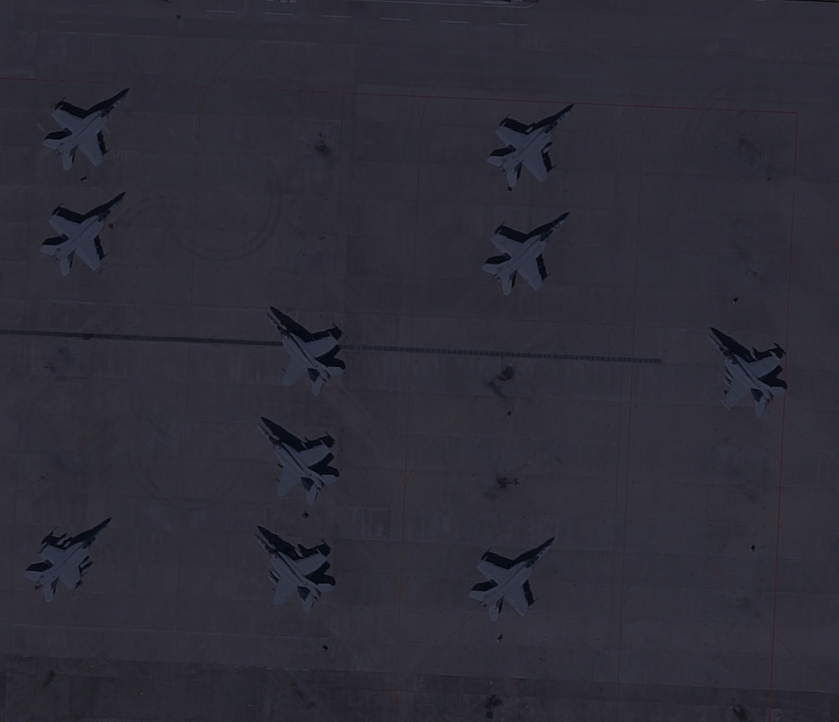A16: (36, 78, 137, 172), (35, 188, 136, 282), (17, 513, 118, 607), (243, 418, 344, 512), (240, 524, 341, 618), (463, 533, 564, 627), (479, 103, 580, 197), (473, 203, 574, 297), (698, 321, 799, 415), (255, 301, 351, 393)
